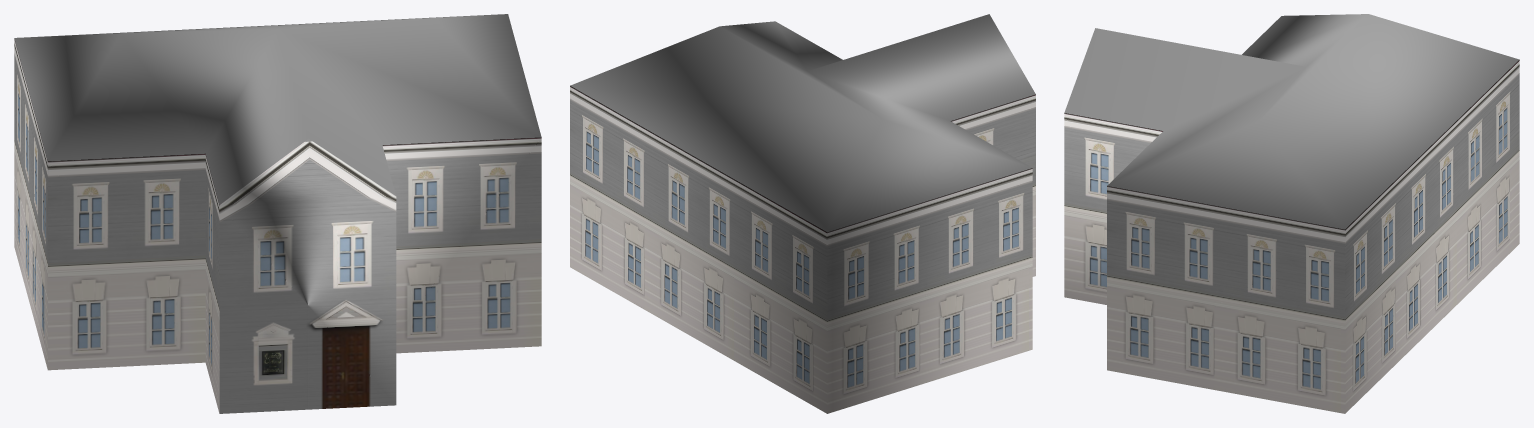
File: lp-building22.fbx
3 renders of one model, left to right at view 1: azimuth 30°, elevation 25°; view 2: azimuth 150°, elevation 25°; view 3: azimuth 270°, elevation 25°, orthographic. The views are drawn at different scales.
Parts seen in each view (by area): view 1: 01houses.007; view 2: 01houses.007; view 3: 01houses.007.
Boxes of the visible parts, x1,y1,x2,y2 form: 01houses.007: (14, 14, 541, 413); 01houses.007: (570, 14, 1035, 413); 01houses.007: (1064, 14, 1519, 413).
Bounding box in the file's own units: 659 × 344 × 593.
1 material, 1 textured.
